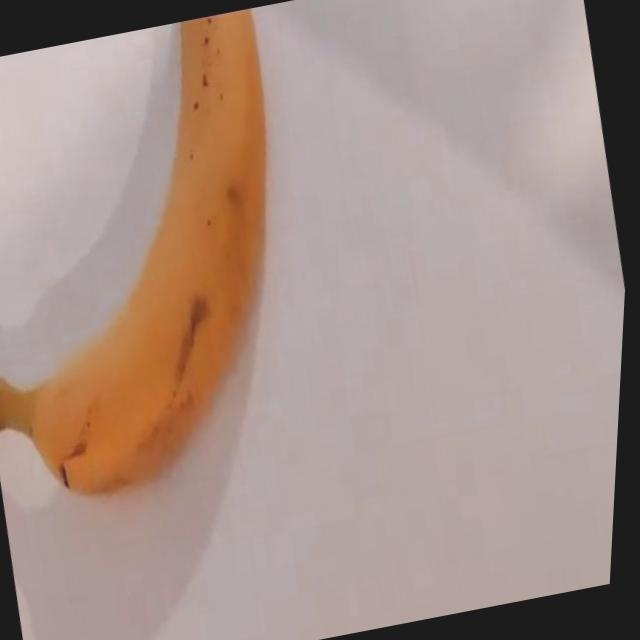Banana: (0, 6, 342, 514)
